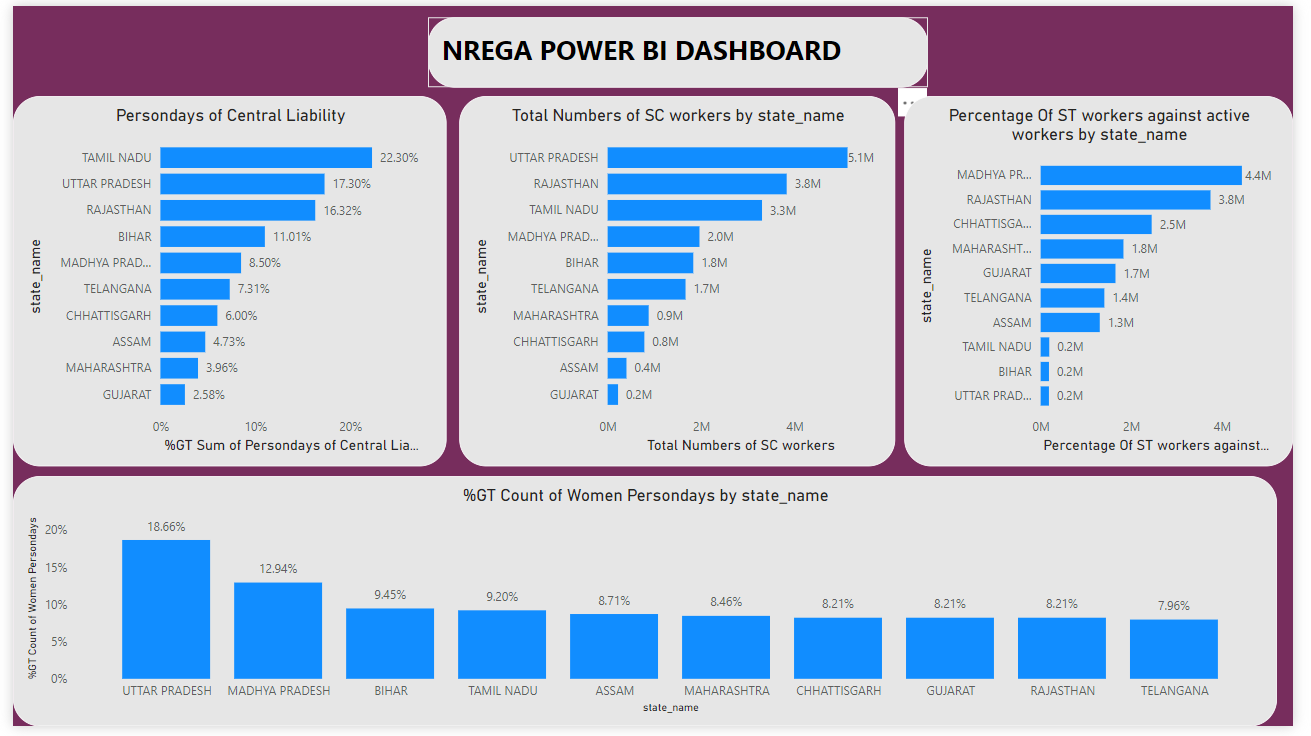

What the dashboard file says about the page in this screenshot:
{"tool":"powerbi","page":{"name":"Page 1","canvas":[1280,720],"ordinal":0},"visuals":[{"type":"textbox","box":[415,11.2,500,70],"z":0},{"type":"barChart","title":"Persondays of Central Liability ","fields":{"Category":["NREGA.state_name"],"Y":["Sum(NREGA.Persondays of Central Liability so far)"]},"box":[0,90,433.8,370],"z":1000},{"type":"barChart","fields":{"Category":["NREGA.state_name"],"Y":["Sum(NREGA.SC workers against active workers)"]},"box":[446.2,90,436.2,370],"z":2000},{"type":"barChart","fields":{"Category":["NREGA.state_name"],"Y":["Sum(NREGA.ST workers against active workers)"]},"box":[891.2,90,388.8,370],"z":3000},{"type":"columnChart","fields":{"Category":["NREGA.state_name"],"Y":["Sum(NREGA.Women Persondays)"]},"box":[0,470,1263.8,250],"z":4000}]}

Visuals, with their boxes in screenshot pixels (x1, y1, x2, y2), scaled from the page's 1280x720 canvas onto the 1311x736 screenshot:
textbox: [425,11,937,83]
"Persondays of Central Liability " barChart: [0,92,444,470]
barChart - NREGA.state_name x Sum(NREGA.SC workers against active workers): [457,92,904,470]
barChart - NREGA.state_name x Sum(NREGA.ST workers against active workers): [913,92,1310,470]
columnChart - NREGA.state_name x Sum(NREGA.Women Persondays): [0,480,1294,735]
